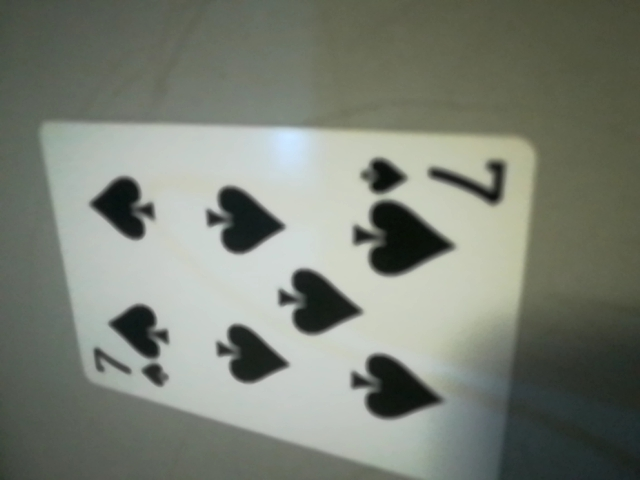ht 7: (343, 143, 525, 221)
